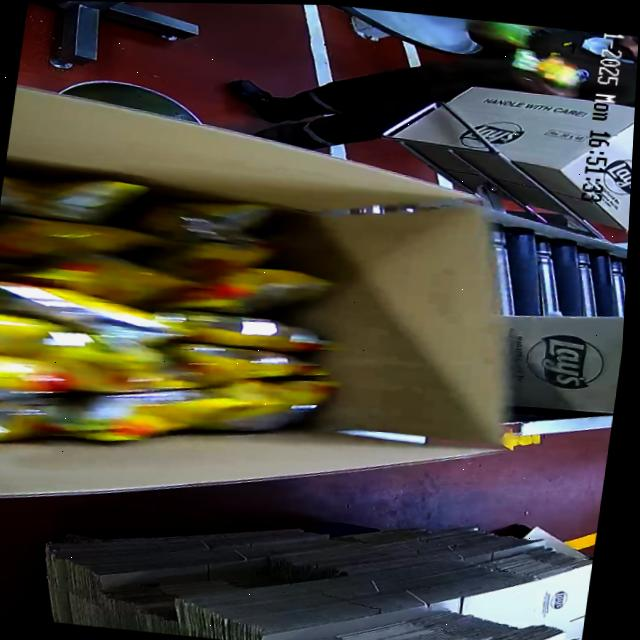SALTED: (0, 161, 354, 474)
